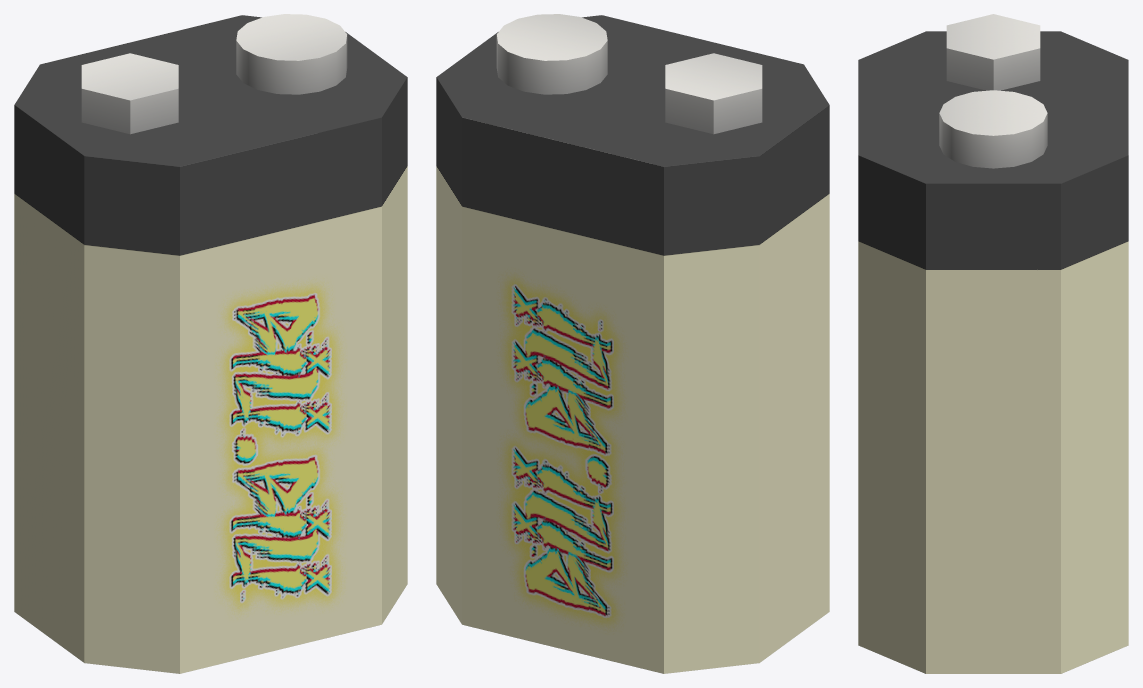
File: ST_battery_Y.fbx
3 views of the same model, side by side, from view 1: azimuth 30°, elevation 25°; view 2: azimuth 150°, elevation 25°; view 3: azimuth 270°, elevation 25° (orthographic). The views are drawn at different scales.
Parts seen in each view (by area): view 1: pCube9, pCylinder8, pCylinder9; view 2: pCube9, pCylinder8, pCylinder9; view 3: pCube9, pCylinder8, pCylinder9.
Boxes of the visible parts, x1=… form: pCube9: x1=14, y1=15, x2=407, y2=673; pCylinder8: x1=236, y1=14, x2=347, y2=94; pCylinder9: x1=81, y1=53, x2=178, y2=134; pCube9: x1=436, y1=15, x2=829, y2=673; pCylinder8: x1=496, y1=14, x2=607, y2=94; pCylinder9: x1=665, y1=53, x2=762, y2=134; pCube9: x1=858, y1=31, x2=1128, y2=673; pCylinder8: x1=939, y1=90, x2=1047, y2=168; pCylinder9: x1=946, y1=14, x2=1040, y2=90.
Size of the model in its own units: 2 by 3.2 by 1.5.
Materials: 1 (1 with a texture image).
